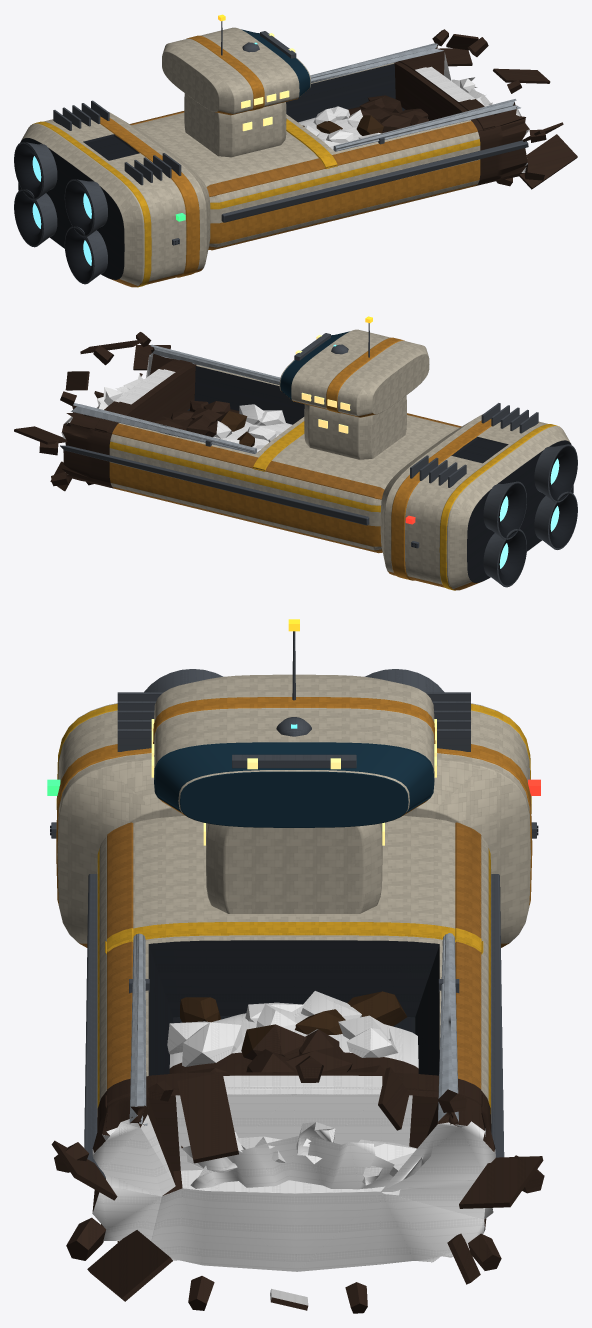
File: wreck_ore_freighter_stern.glb
3 views of the same model, one above another, from view 1: azimuth 30°, elevation 25°; view 2: azimuth 150°, elevation 25°; view 3: azimuth 270°, elevation 25° (orthographic). The views are drawn at different scales.
Parts seen in each view (by area): view 1: Hull, Drive, Bridge, TowerBase, Strake_M, Nozzle19_10, Nozzle-19_10, Nozzle19_-10, Nozzle-19_-10, PipeRun_M, woundFwd_t_tear3, PipeRun (+6 smaller); view 2: Hull, Drive, Bridge, TowerBase, Strake, Nozzle19_10, Nozzle-19_10, Nozzle19_-10, Nozzle-19_-10, PipeRun, PipeRun_M, H3Heap (+6 smaller); view 3: Hull, Bridge, Drive, TowerBase, H2Heap, woundFwd_t_tear1, H3Heap, Strake_M, woundFwd_t_tear3, Strake, PipeRun, PipeRun_M (+16 smaller).
Boxes of the visible parts, box(x1,y1,x2,y2) form: Hull: box(130, 51, 529, 250); Drive: box(18, 112, 210, 287); Bridge: box(162, 27, 310, 115); TowerBase: box(184, 93, 286, 157); Strake_M: box(221, 140, 528, 222); Nozzle19_10: box(14, 142, 57, 199); Nozzle-19_10: box(64, 179, 107, 236); Nozzle19_-10: box(14, 189, 57, 247); Nozzle-19_-10: box(64, 226, 107, 284); PipeRun_M: box(333, 99, 520, 151); woundFwd_t_tear3: box(519, 134, 577, 189); PipeRun: box(310, 43, 443, 82); Hull: box(61, 353, 461, 553); Drive: box(380, 414, 573, 590); Bridge: box(279, 329, 429, 417); TowerBase: box(304, 395, 406, 459); Strake: box(60, 445, 369, 525); Nozzle19_10: box(483, 481, 526, 539); Nozzle-19_10: box(534, 444, 577, 502); Nozzle19_-10: box(483, 529, 526, 587); Nozzle-19_-10: box(534, 491, 577, 549); PipeRun: box(71, 403, 257, 454); PipeRun_M: box(149, 344, 280, 384); H3Heap: box(178, 409, 292, 447); Hull: box(92, 816, 495, 1271); Bridge: box(153, 674, 435, 827); Drive: box(56, 703, 532, 947); TowerBase: box(206, 823, 382, 913); H2Heap: box(190, 1136, 400, 1195); woundFwd_t_tear1: box(177, 1072, 238, 1163); H3Heap: box(169, 1013, 418, 1073); Strake_M: box(84, 874, 105, 1178); woundFwd_t_tear3: box(87, 1230, 172, 1301); Strake: box(491, 874, 504, 1157); PipeRun: box(438, 933, 458, 1124); PipeRun_M: box(129, 933, 147, 1125).
Bounding box in the file's own units: 145 × 62.73 × 64.88.
Materials: 19 (12 with a texture image).
